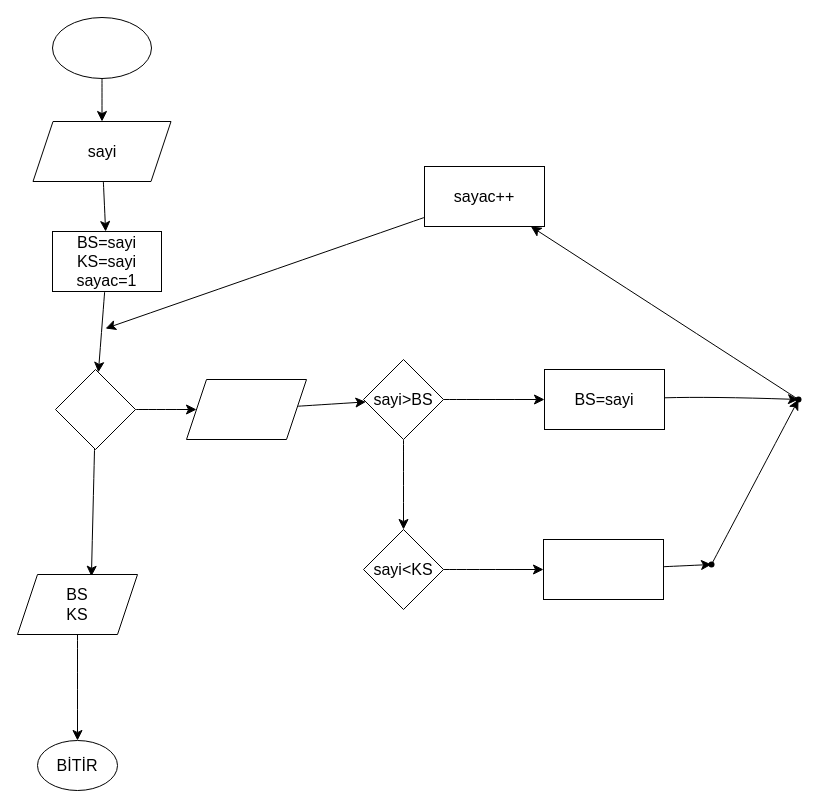
This 826x808 diagram has some shape labels left out. Each missing label, with the centre of its shape:
başla: the point at 102,47
KS=sayi: the point at 603,569
sayac<10: the point at 95,409
sayı gir,sayi: the point at 246,409
